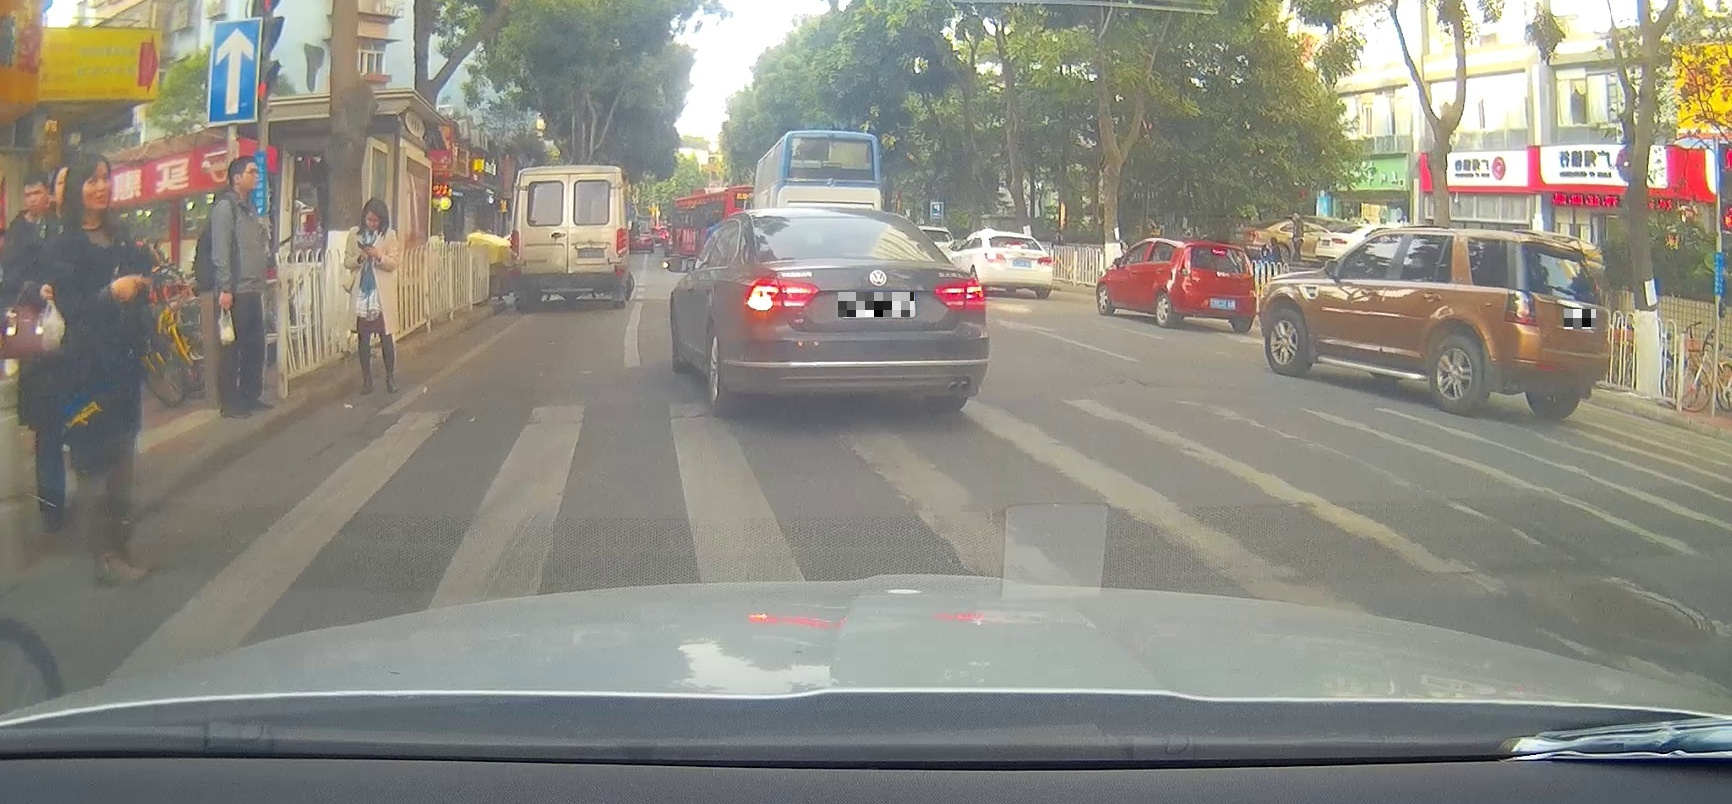L_light: (742, 275, 819, 318), (1503, 287, 1539, 325), (511, 230, 520, 260), (984, 252, 1006, 263), (1183, 260, 1193, 275)
R_light: (931, 276, 986, 311), (1598, 300, 1609, 334), (616, 228, 629, 256), (1244, 260, 1255, 275), (1038, 256, 1053, 266)
T_light: (853, 254, 894, 261), (1551, 247, 1582, 255), (1212, 248, 1228, 254), (563, 173, 579, 177)
day-brake: (1182, 239, 1256, 332), (985, 229, 1053, 298)
day-left: (741, 207, 986, 414)
day-no: (1499, 231, 1609, 419), (511, 165, 631, 309), (1011, 245, 1022, 250)
plate_1: (838, 292, 913, 317)
plate_2: (1564, 309, 1596, 329)
